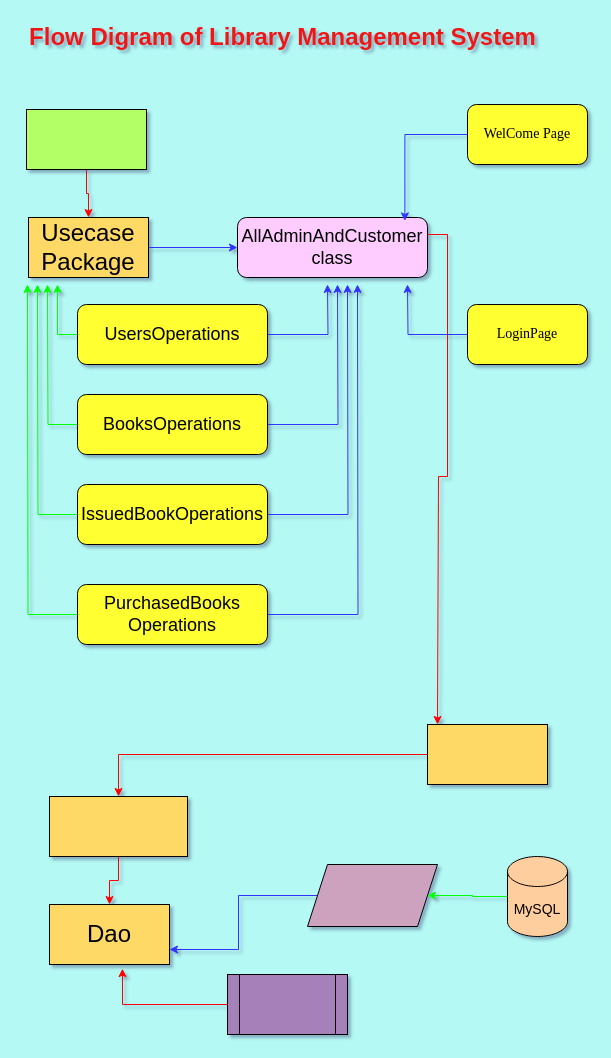
Image size: 611x1058. Some labels were removed from this diagram. The centre of each missing label's shape, as x and y in pixels:
"All the Functionality in DB" belongs at point (287, 1004).
"Connection Class" belongs at point (372, 895).
"Main" belongs at point (86, 139).
"Service Package" belongs at point (487, 754).
"ServiceImpl Package" belongs at point (118, 826).
